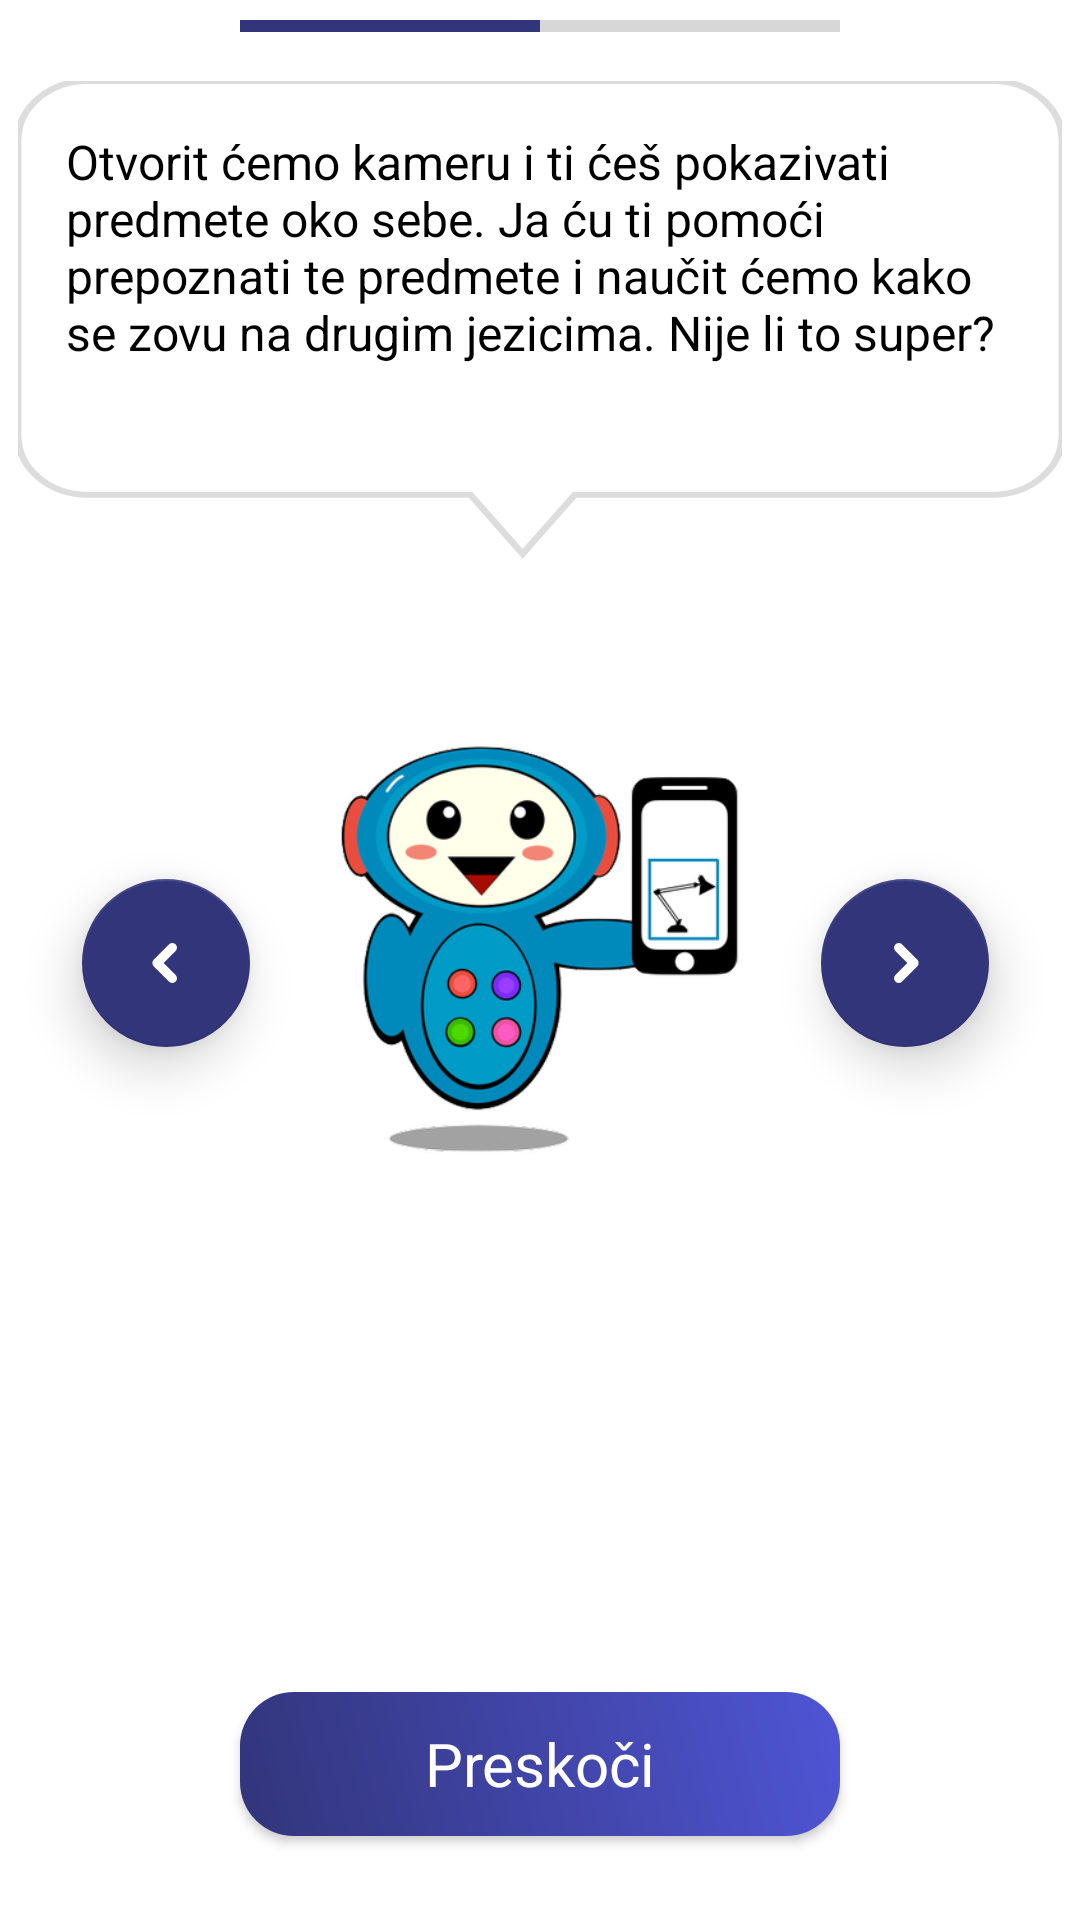

Locate icon controls on the screen. Image size 1080 × 1920, boxes as [x1,y1,x2,y2].
back button: [82,879,250,1047]
Next arrow: [821,879,989,1047]
